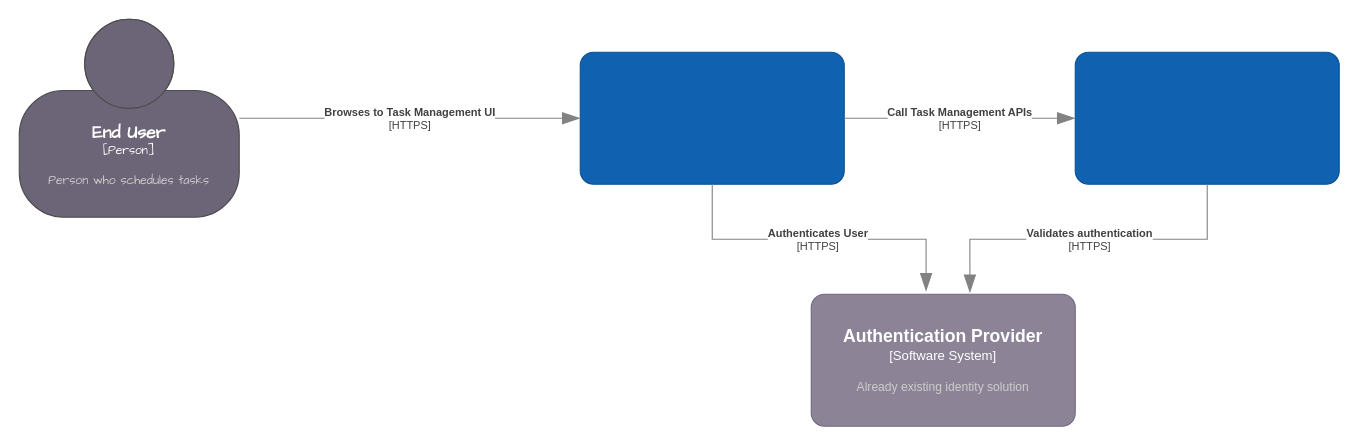
Image size: 1359x446. Some labels were removed from this diagram. Here are the shapes that lost their labels. From the top down, the box of each, then its label:
(579, 51, 844, 184): Task Management UI [Software System] Front-End Web Application
(1074, 51, 1339, 184): Task Management Service [Software System] Back-End Task Management Services
